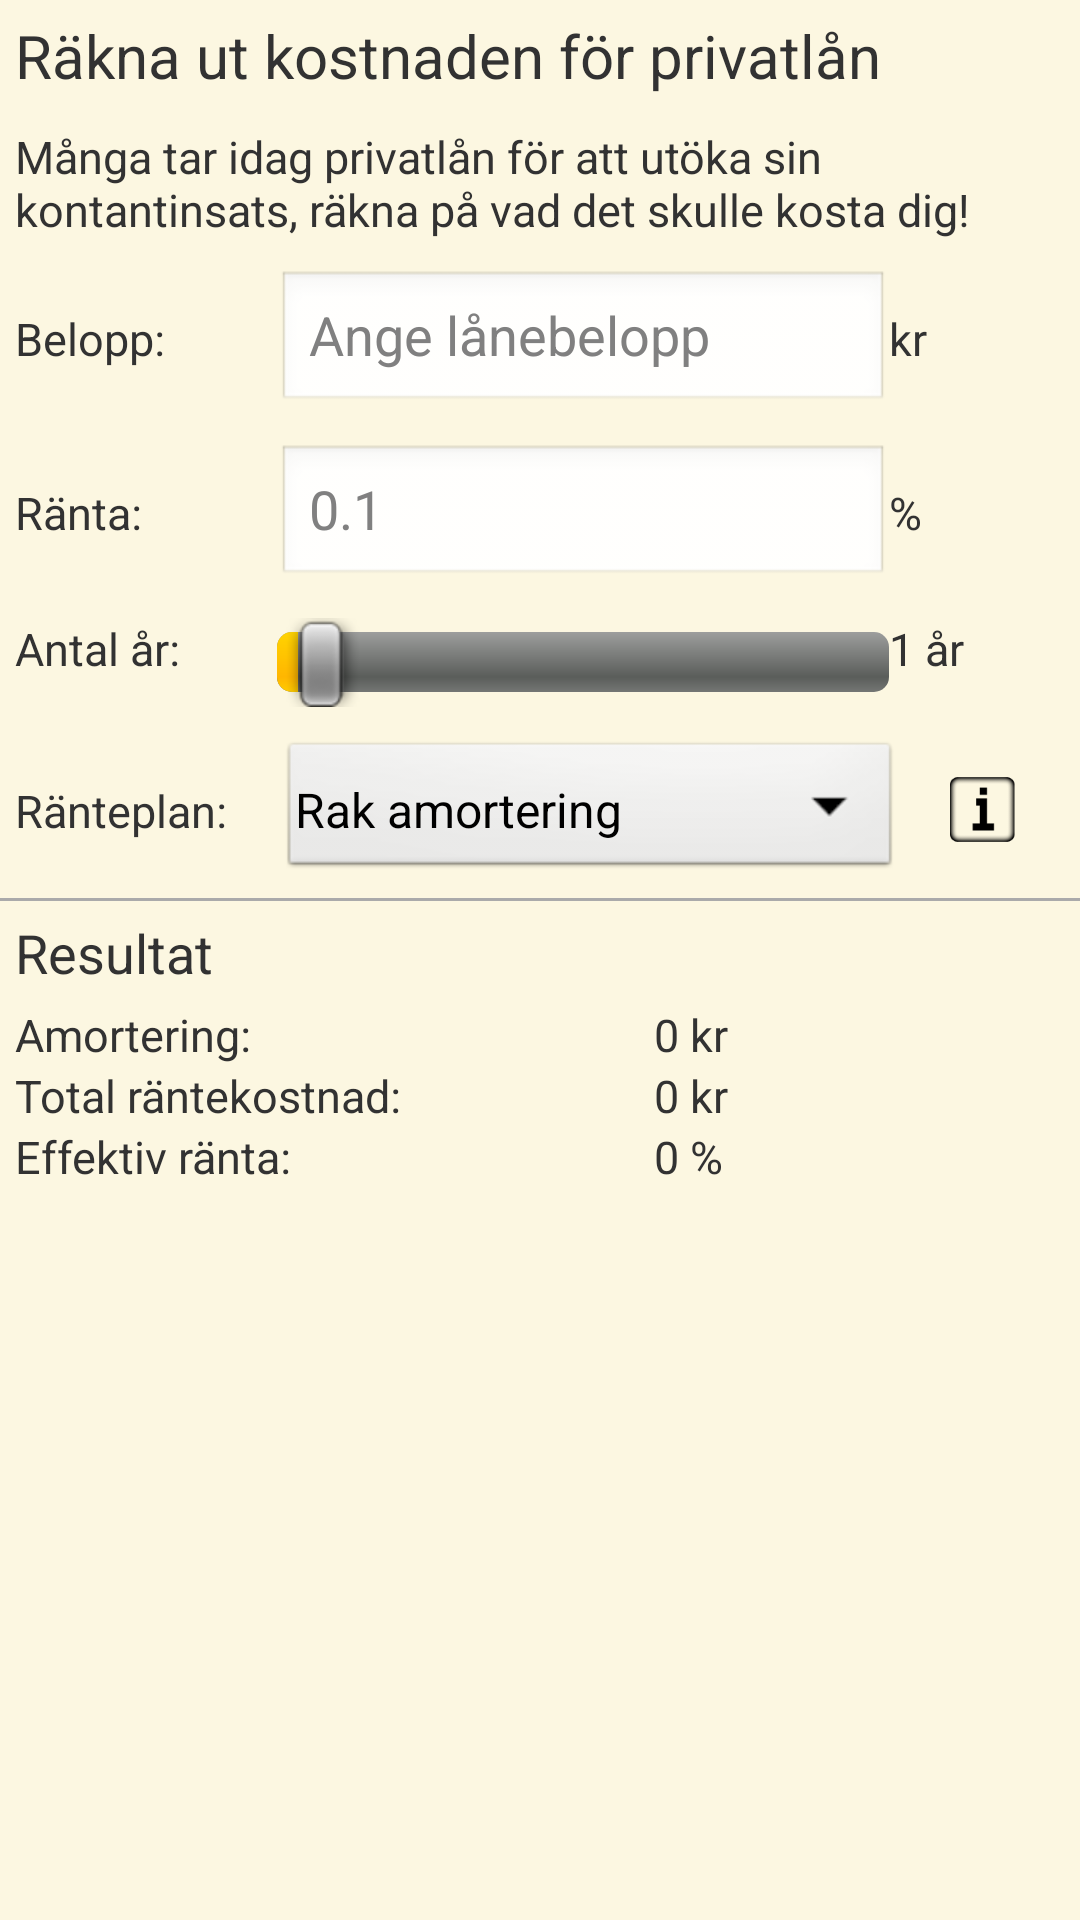

Point at icon controls on the screen. Image size 1080w x 1920h, points as (x,y).
info: (982,809)
